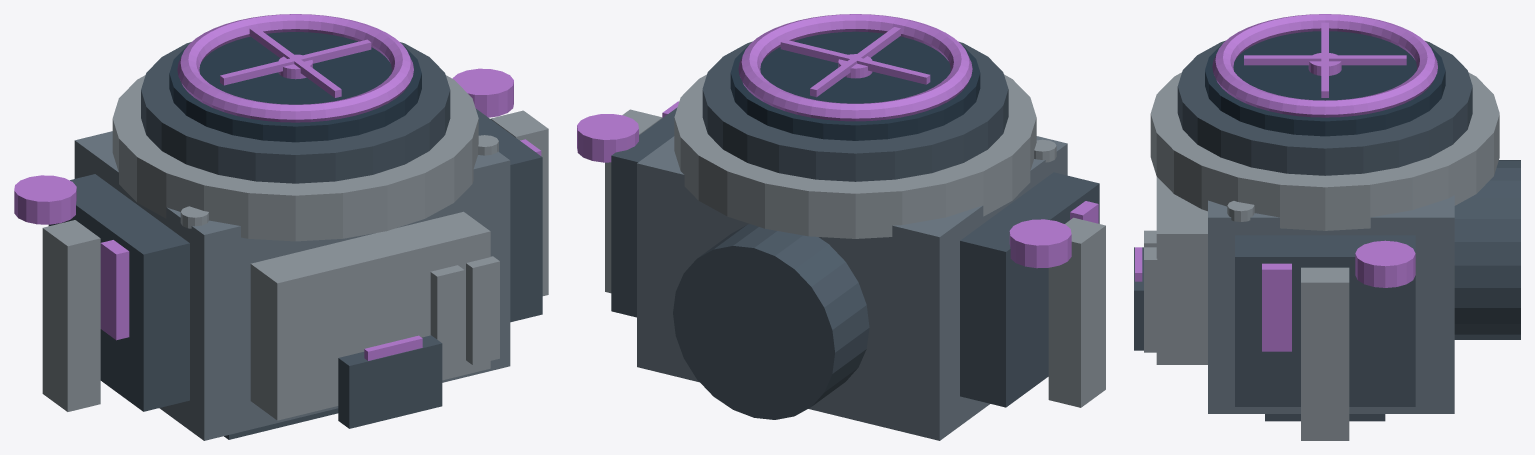
Rendered from mira3.glb.
3 renders of one model, left to right at view 1: azimuth 30°, elevation 25°; view 2: azimuth 150°, elevation 25°; view 3: azimuth 270°, elevation 25°, orthographic. The views are drawn at different scales.
Parts seen in each view (by area): view 1: top_armor_cover, outer_lens_bezel, main_sensor_housing, inner_gasket, side_cheek_-1, sensor_glass, reinforced_side_rail_-1, illuminated_target_ring, tier_badge, side_cheek_1, top_heat_fin_1, top_heat_fin_0 (+8 smaller); view 2: main_sensor_housing, compact_mount_socket, outer_lens_bezel, side_cheek_-1, inner_gasket, sensor_glass, reinforced_side_rail_-1, illuminated_target_ring, side_cheek_1, side_sensor_-1, side_sensor_1, reticle_horizontal (+2 smaller); view 3: outer_lens_bezel, side_cheek_1, main_sensor_housing, inner_gasket, sensor_glass, compact_mount_socket, illuminated_target_ring, top_armor_cover, reinforced_side_rail_1, side_light_1, side_sensor_1, reticle_vertical (+6 smaller).
Part boxes in pixels (x1,y1,x2,y2): top_armor_cover: (250,211,490,420); outer_lens_bezel: (112,75,478,241); main_sensor_housing: (74,131,510,440); inner_gasket: (141,42,450,183); side_cheek_-1: (48,174,189,411); sensor_glass: (169,32,421,142); reinforced_side_rail_-1: (42,220,100,411); illuminated_target_ring: (177,14,413,122); tier_badge: (338,335,442,428); side_cheek_1: (475,108,542,322); top_heat_fin_1: (466,256,499,364); top_heat_fin_0: (430,265,464,372); main_sensor_housing: (637,136,1067,440); compact_mount_socket: (673,224,869,419); outer_lens_bezel: (674,74,1036,238); side_cheek_-1: (960,172,1099,407); inner_gasket: (702,41,1008,181); sensor_glass: (730,31,980,140); reinforced_side_rail_-1: (1048,217,1105,407); illuminated_target_ring: (738,14,972,121); side_cheek_1: (611,107,677,317); side_sensor_-1: (1009,219,1071,268); side_sensor_1: (577,114,638,162); reticle_horizontal: (780,39,930,84); outer_lens_bezel: (1150,72,1499,230); side_cheek_1: (1235,235,1415,406); main_sensor_housing: (1208,195,1454,413); inner_gasket: (1177,40,1472,175); sensor_glass: (1205,31,1445,136); compact_mount_socket: (1454,160,1520,339); illuminated_target_ring: (1212,14,1437,117); top_armor_cover: (1156,177,1207,364); reinforced_side_rail_1: (1301,267,1349,440); side_light_1: (1262,263,1291,351); side_sensor_1: (1355,240,1415,287); reticle_vertical: (1244,55,1406,65).
Bounding box in the file's own units: 1.8 × 1.17 × 1.28.
